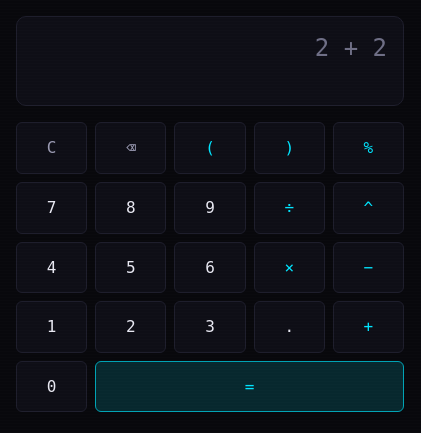
Scenario: Calculator › appends the keypad key that was pressed
Click the button "7".
click(52, 208)  # box [16,182,87,234]
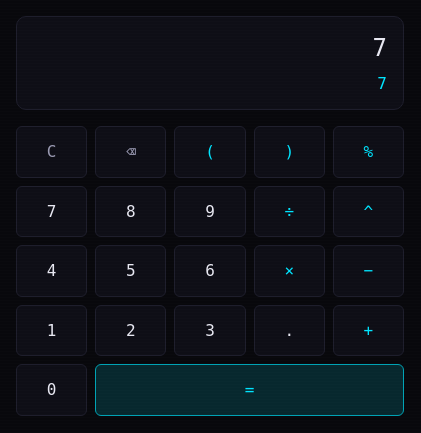
Click the button named "multiply".
click(289, 271)  # box [254,245,325,297]
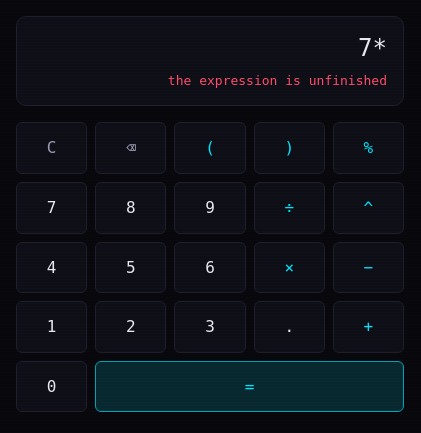
Click the button "6".
click(210, 267)  # box [174,242,246,293]
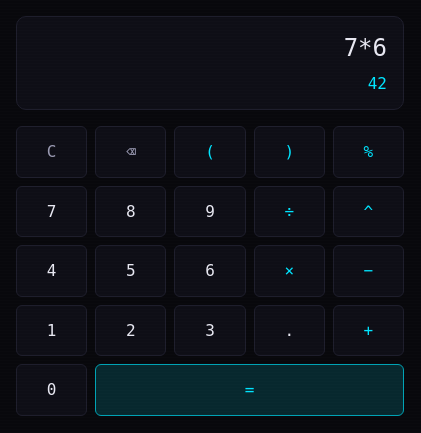
Expected: the field named "expression" holds "7*6", [33,29,387,67]
Expected: the message reads "42", [368,74,387,93]
